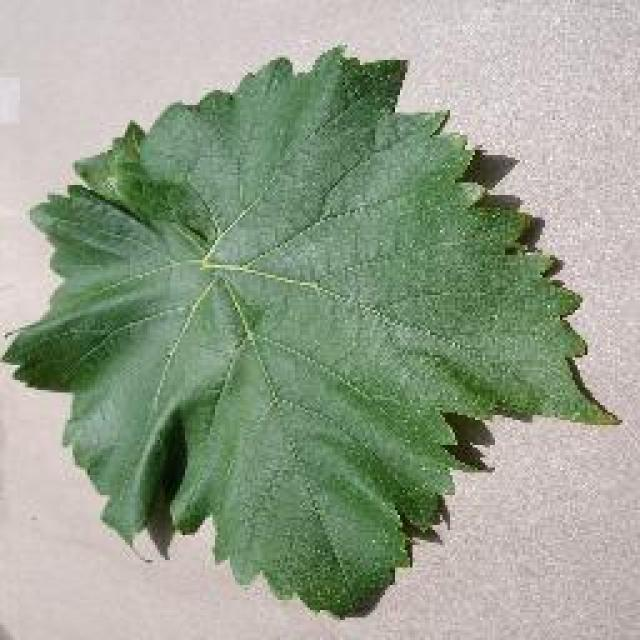Grape___healthy: (0, 36, 629, 624)
